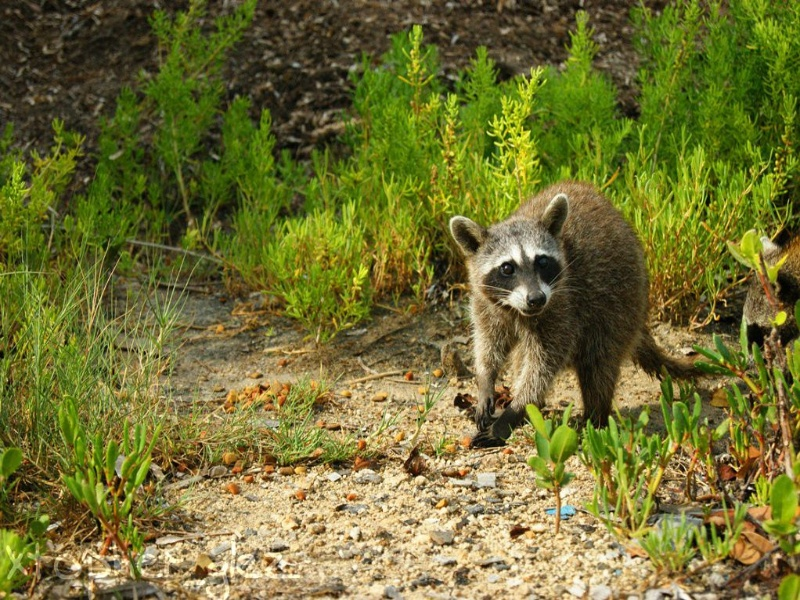raccoon: (440, 182, 728, 442)
